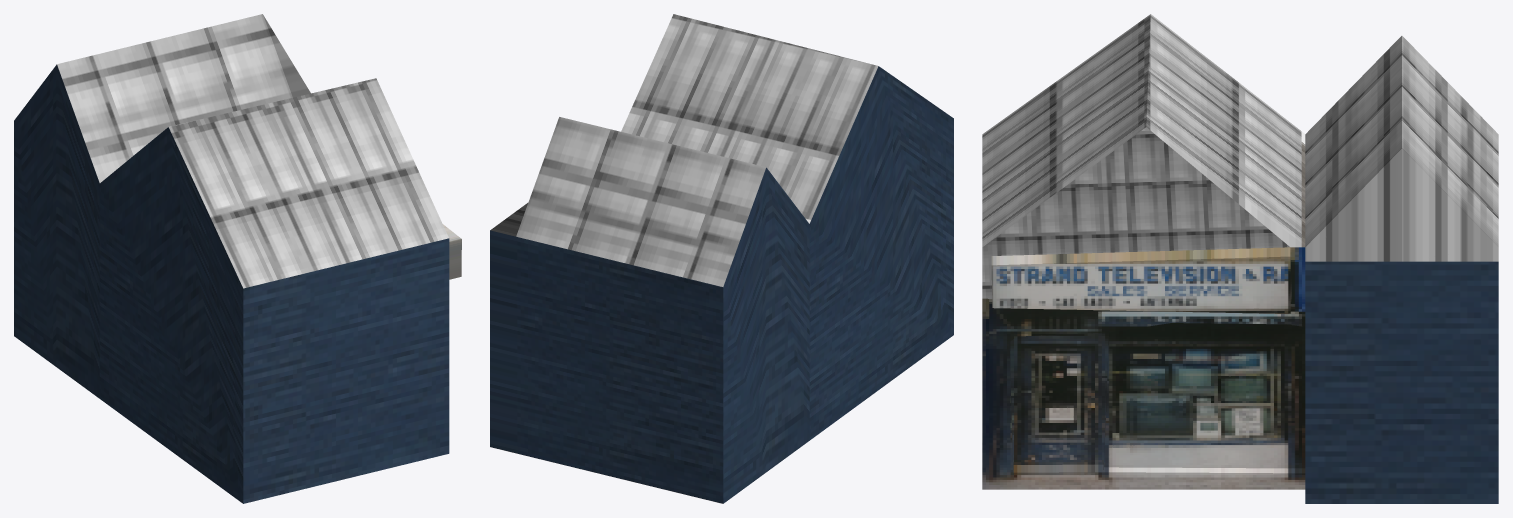
File: Tv Store.fbx
The picture shows the model from 3 angles, left to right: view 1: azimuth 30°, elevation 25°; view 2: azimuth 150°, elevation 25°; view 3: azimuth 270°, elevation 25°; orthographic projection. The views are drawn at different scales.
Visible parts, largest first — view 1: Cube; view 2: Cube; view 3: Cube.
Part boxes in pixels (bbox=[...]): Cube: bbox=[14, 14, 461, 503]; Cube: bbox=[490, 14, 953, 503]; Cube: bbox=[982, 14, 1498, 503].
Size of the model in its own units: 578 by 768 by 991.
Materials: 1 (1 with a texture image).
